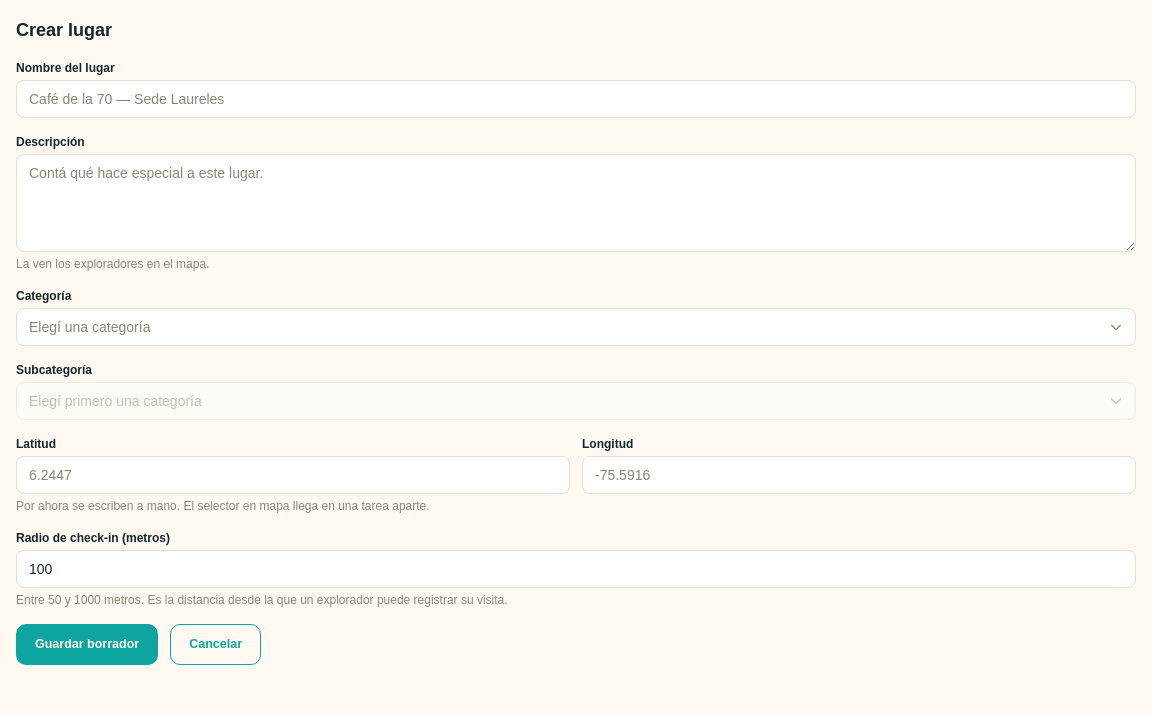
PlaceForm › trata el radio vacío como obligatorio
Clear the number field labelled "Radio de check-in (metros)". click: x=576, y=569
box: [16,550,1136,588]
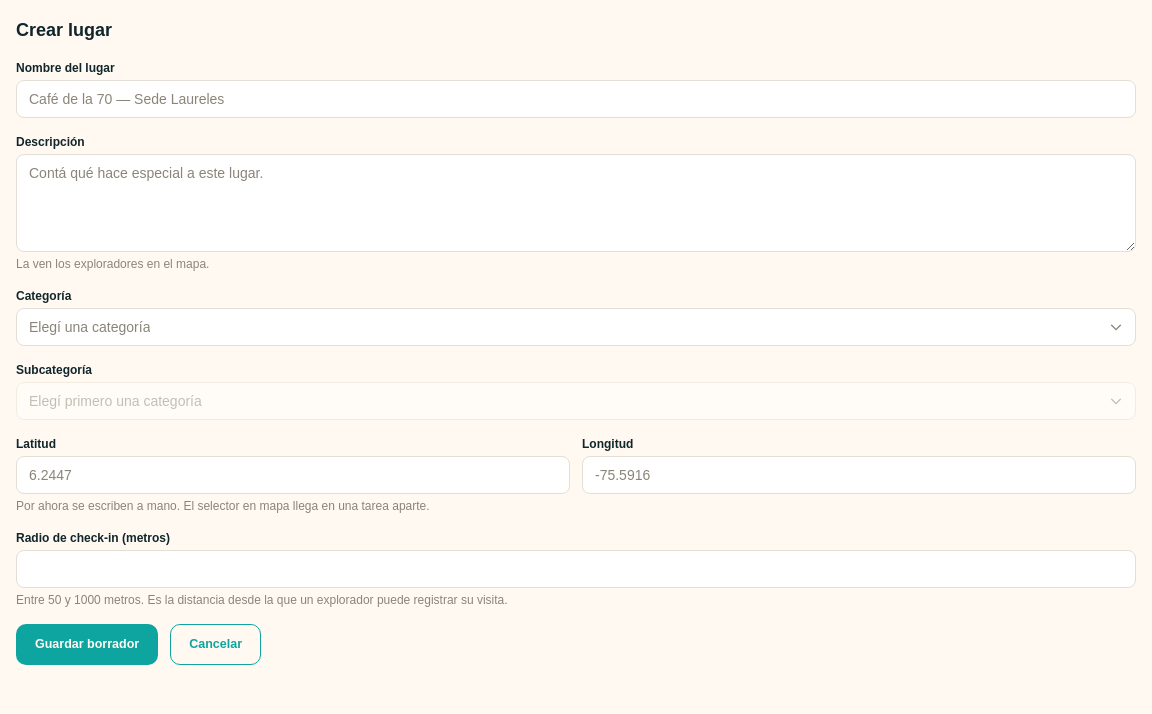
Click the button "Guardar borrador". click: x=87, y=644
box: [16,624,158,665]
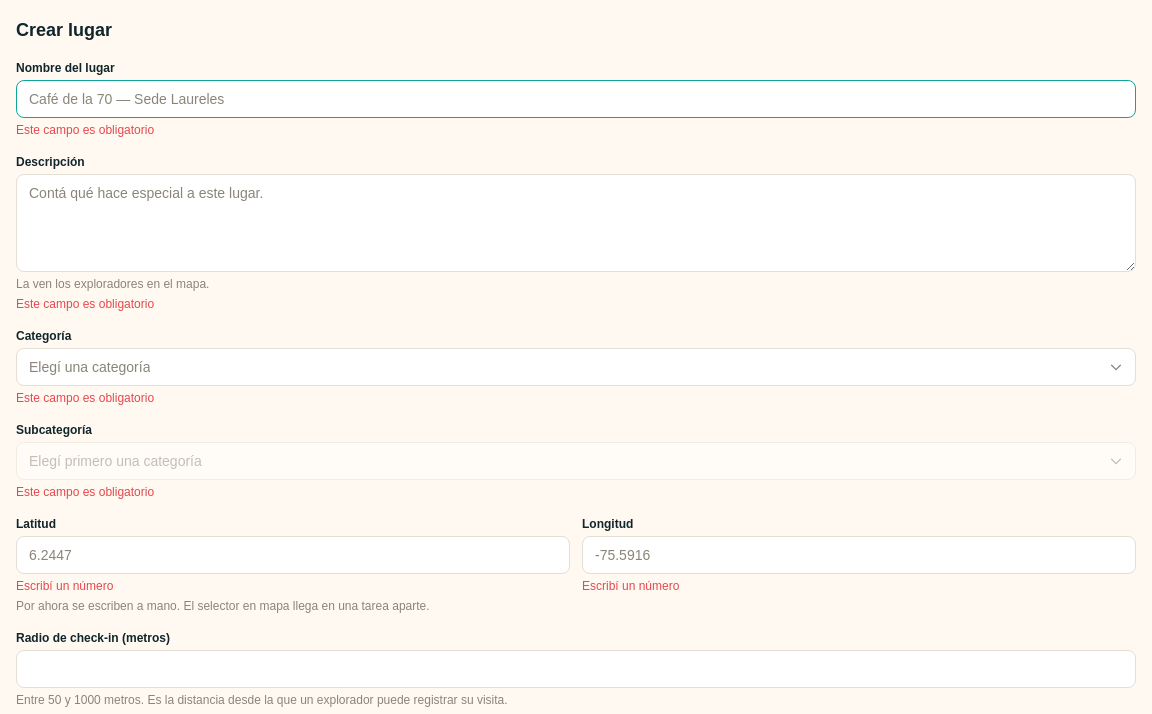
Check: the text "Este campo es obligatorio" below "Nombre del lugar" is shown, box [16,123,154,137]
